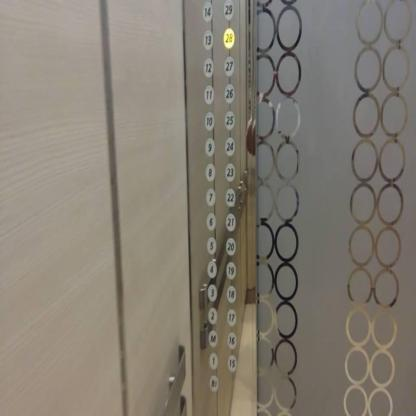1: (208, 350, 218, 371)
10: (203, 110, 215, 133)
11: (203, 84, 214, 106)
12: (202, 57, 214, 79)
13: (202, 29, 214, 50)
14: (201, 0, 213, 23)
15: (226, 353, 238, 374)
16: (226, 330, 237, 350)
17: (225, 306, 237, 327)
18: (225, 284, 236, 305)
19: (225, 260, 237, 281)
2: (207, 306, 218, 325)
20: (225, 236, 236, 257)
21: (224, 211, 236, 233)
22: (224, 186, 236, 208)
23: (224, 160, 235, 183)
24: (224, 136, 235, 157)
25: (224, 108, 235, 132)
26: (223, 82, 235, 106)
27: (223, 55, 234, 78)
28: (222, 26, 235, 50)
29: (222, 0, 234, 21)
3: (206, 282, 218, 302)
4: (206, 258, 217, 280)
5: (205, 236, 217, 255)
6: (205, 211, 216, 231)
7: (204, 186, 216, 206)
8: (204, 161, 216, 182)
9: (203, 136, 215, 158)
B1: (208, 373, 219, 394)
M: (208, 328, 218, 348)
